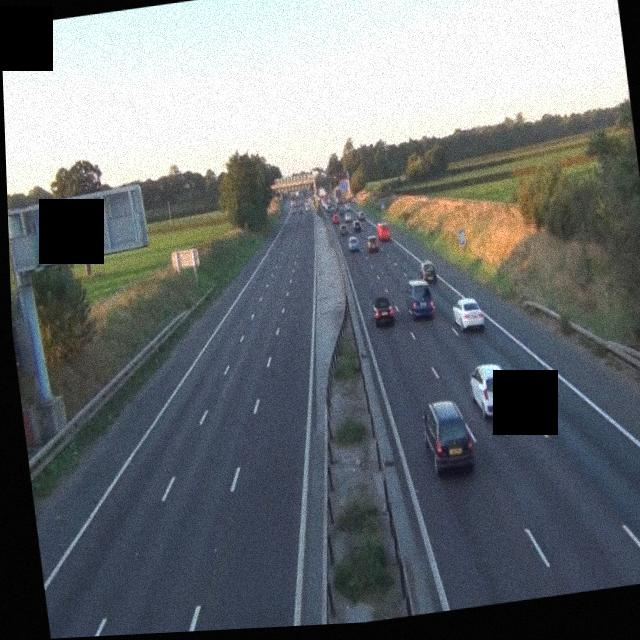car: (419, 397, 476, 477), (468, 362, 514, 420), (449, 294, 486, 333), (403, 276, 434, 320), (371, 294, 396, 327), (419, 259, 438, 283), (375, 221, 390, 242), (365, 232, 380, 252), (347, 232, 360, 251), (352, 216, 362, 230), (329, 210, 339, 224), (338, 222, 347, 236), (356, 209, 365, 222)
